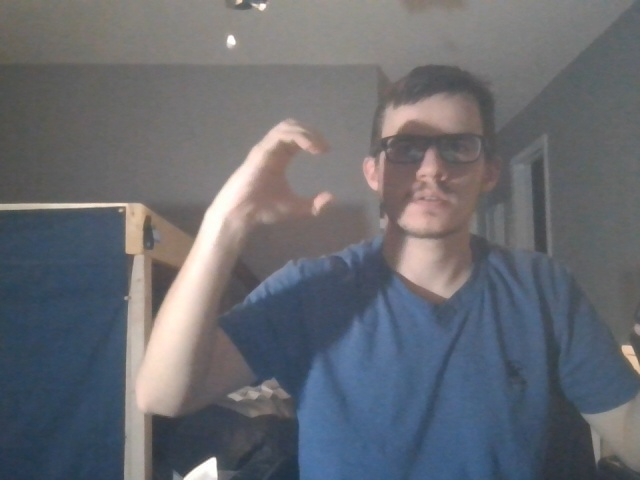C: (211, 110, 349, 243)
